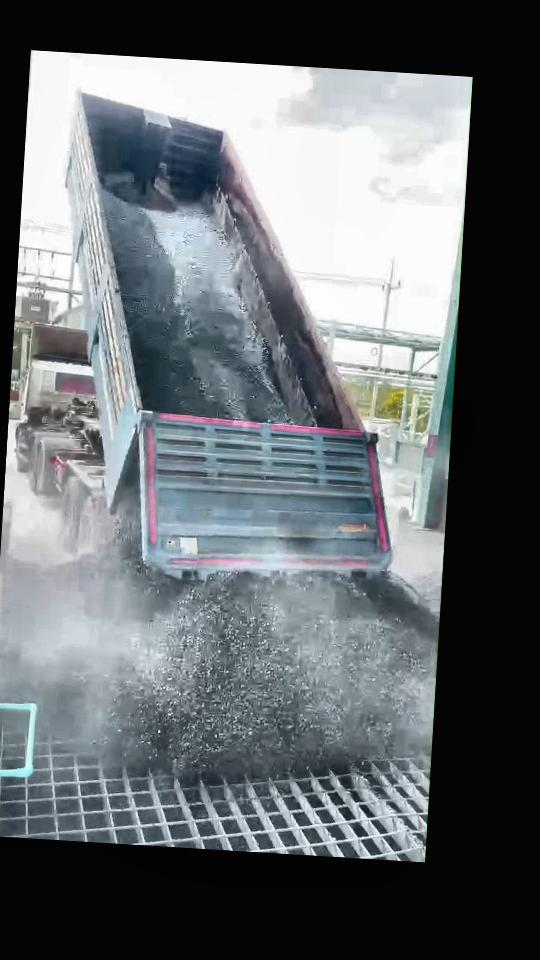gravel: (91, 507, 435, 773), (102, 191, 288, 421)
